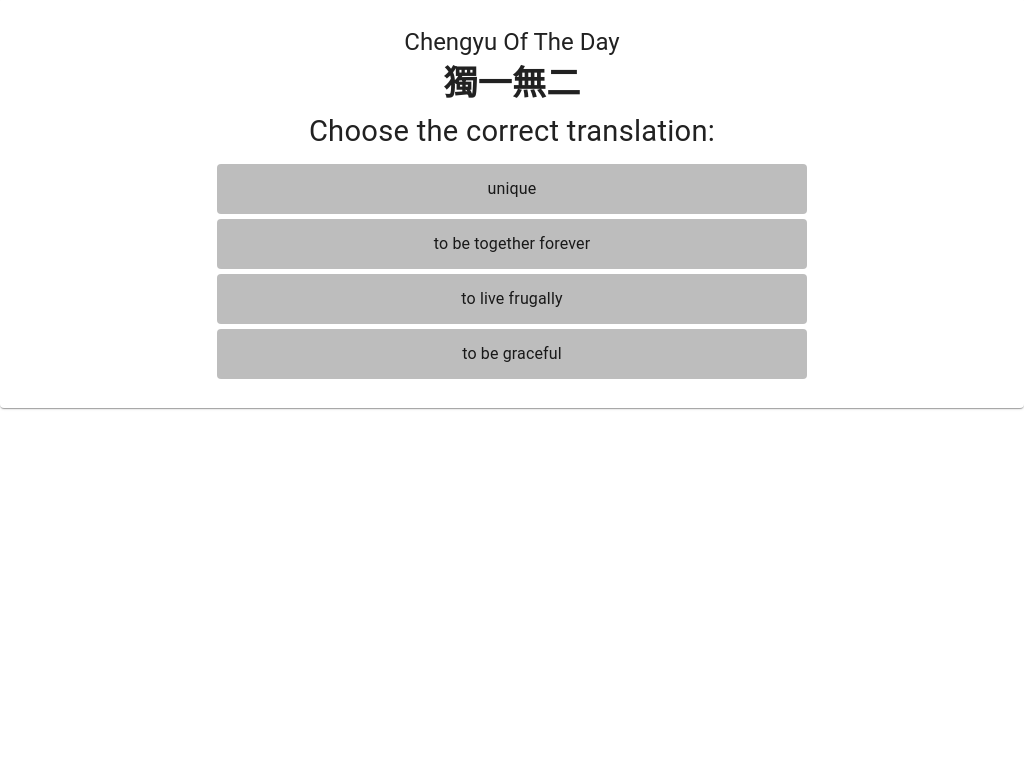
Test: Chengyu — answering incorrectly › can still select the correct answer after a wrong guess
Note: Click wrong first
Click the button "to be together forever" at (512, 244), box [217, 219, 807, 269]
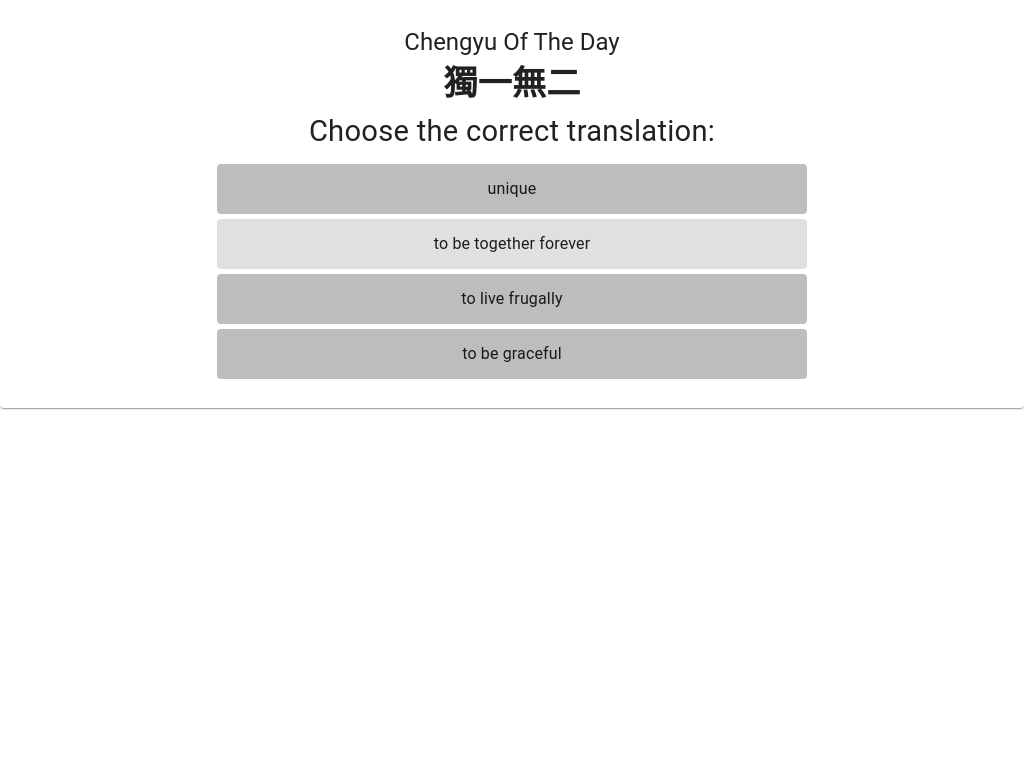
Note: Then click correct
Click the button "unique" at (512, 189), box [217, 164, 807, 214]
(page scrolled)
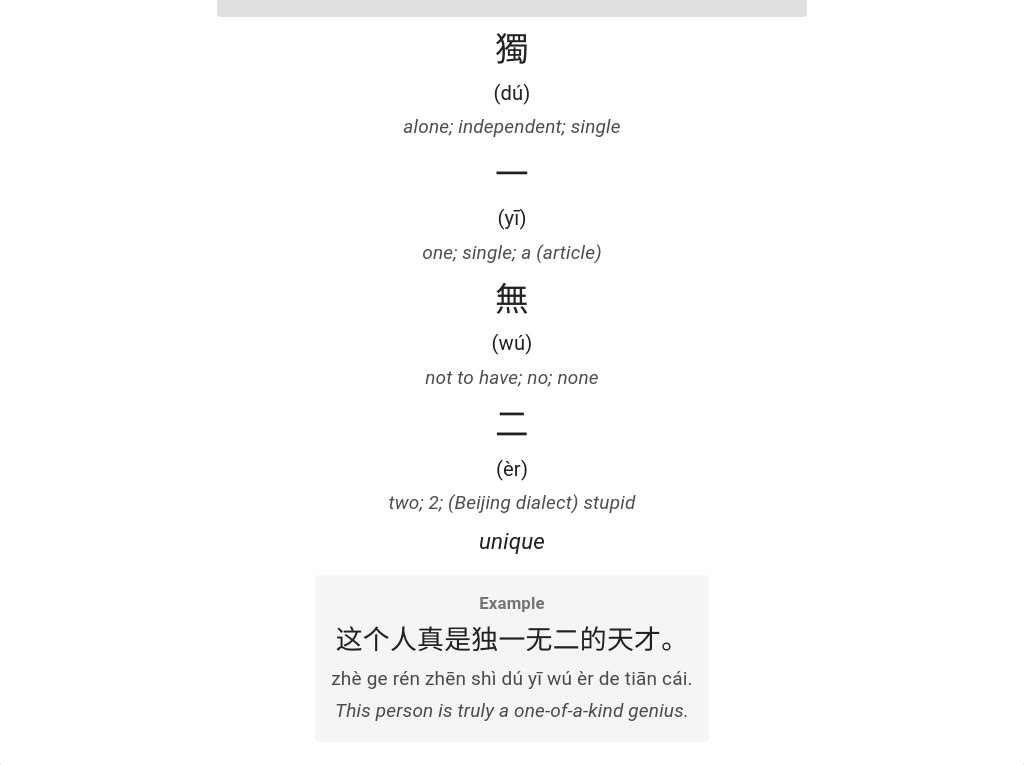
Result: the list named "character breakdown" is shown at [315, 22, 709, 742]
